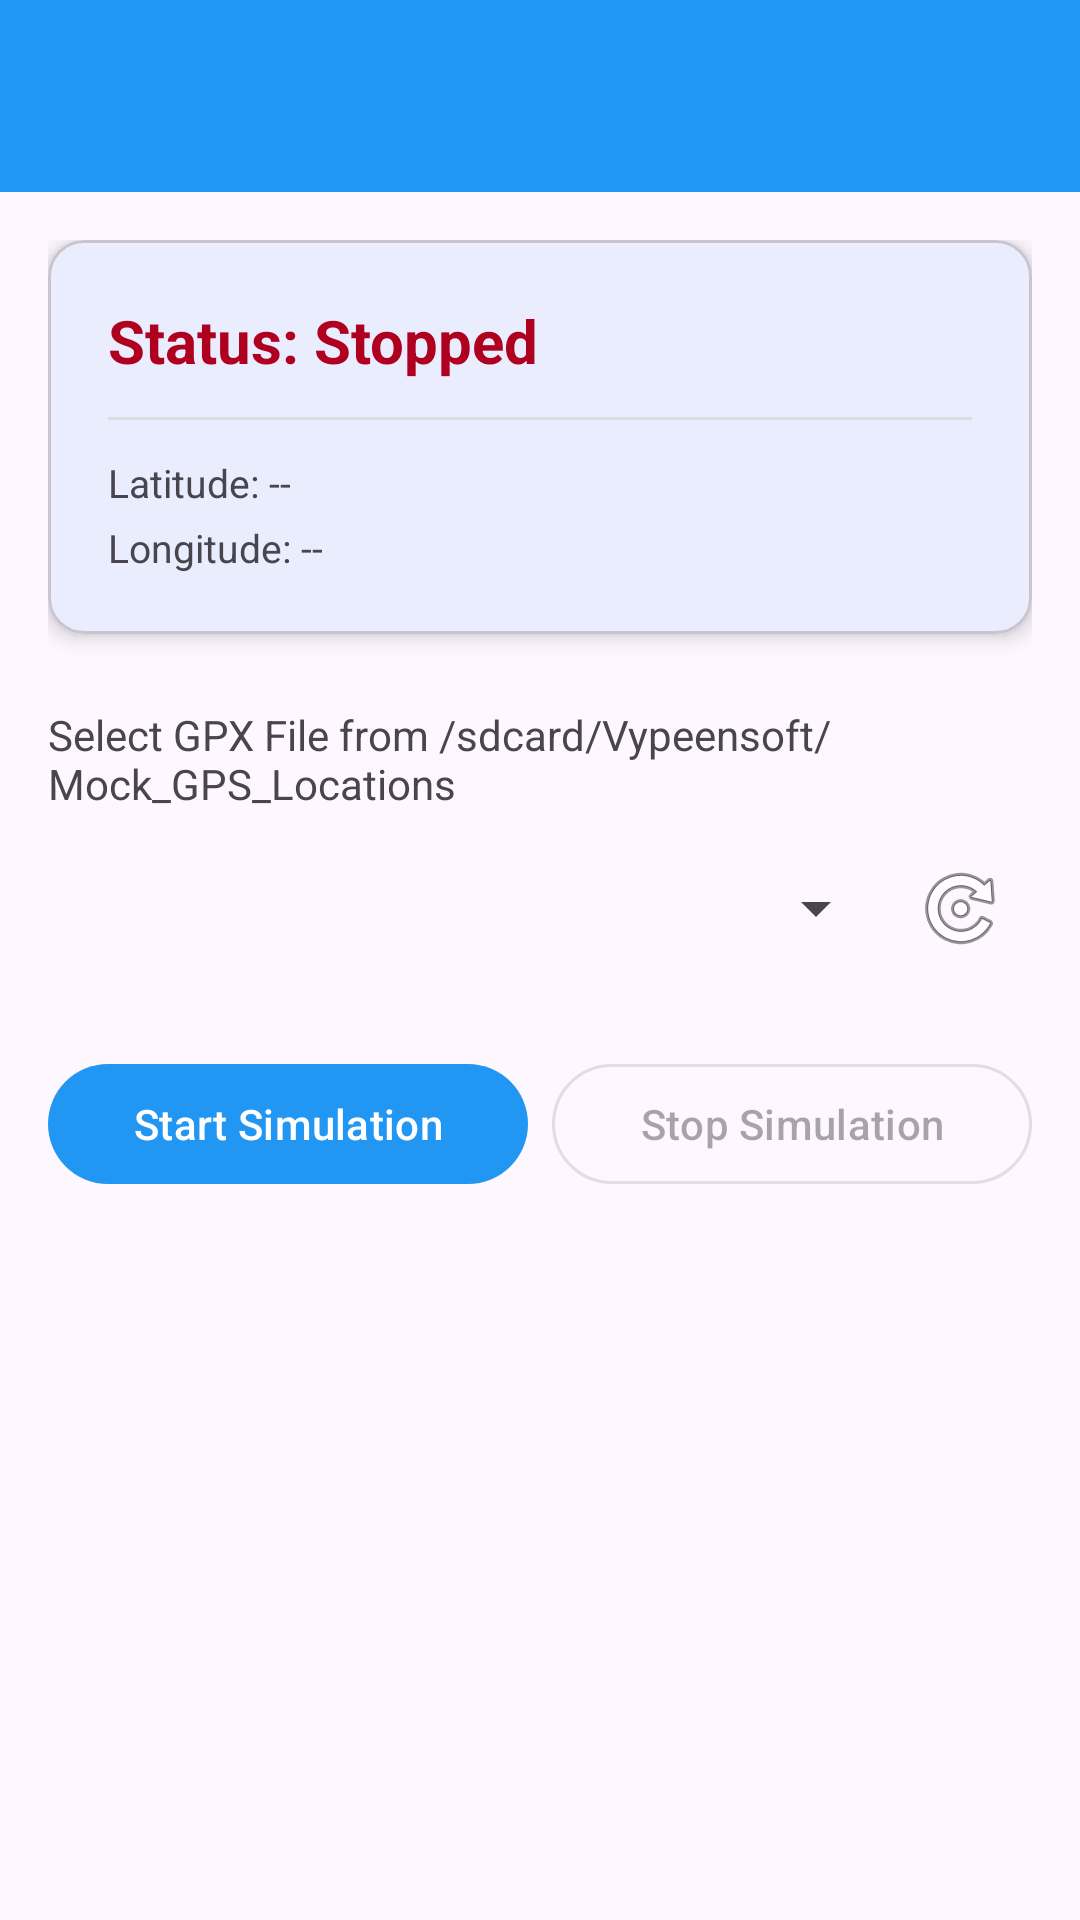

Icons on this 1080x1920 Android screen, each with the point to tap as (x,y):
Refresh folder: (960,908)
